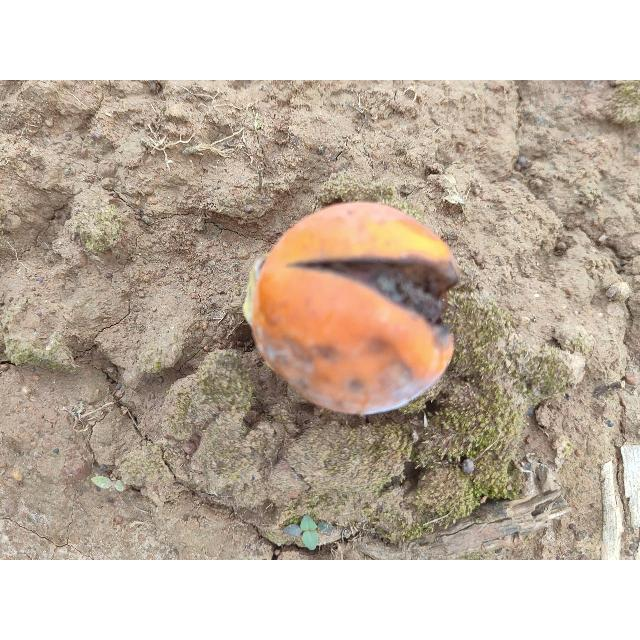damaged: (241, 202, 459, 417)
